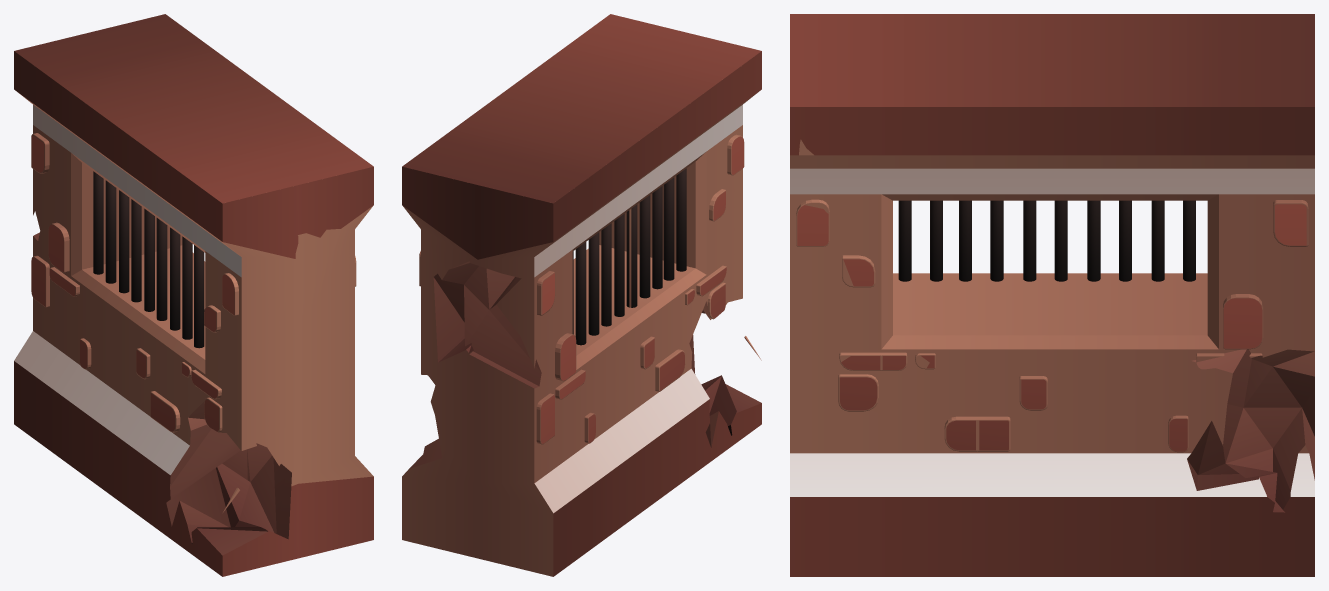
Rendered from env_wallwWndow_melissaLiao_01.glb.
3 views of the same model, side by side, from view 1: azimuth 30°, elevation 25°; view 2: azimuth 150°, elevation 25°; view 3: azimuth 270°, elevation 25° (orthographic). The views are drawn at different scales.
Visible parts, largest first — view 1: Cube; view 2: Cube; view 3: Cube.
Part boxes in pixels (x1,y1,x2,y2): Cube: (14,14,373,576); Cube: (402,14,761,576); Cube: (790,14,1314,576).
Size of the model in its own units: 8.6 by 20.26 by 20.5.
Materials: 1 (1 with a texture image).
